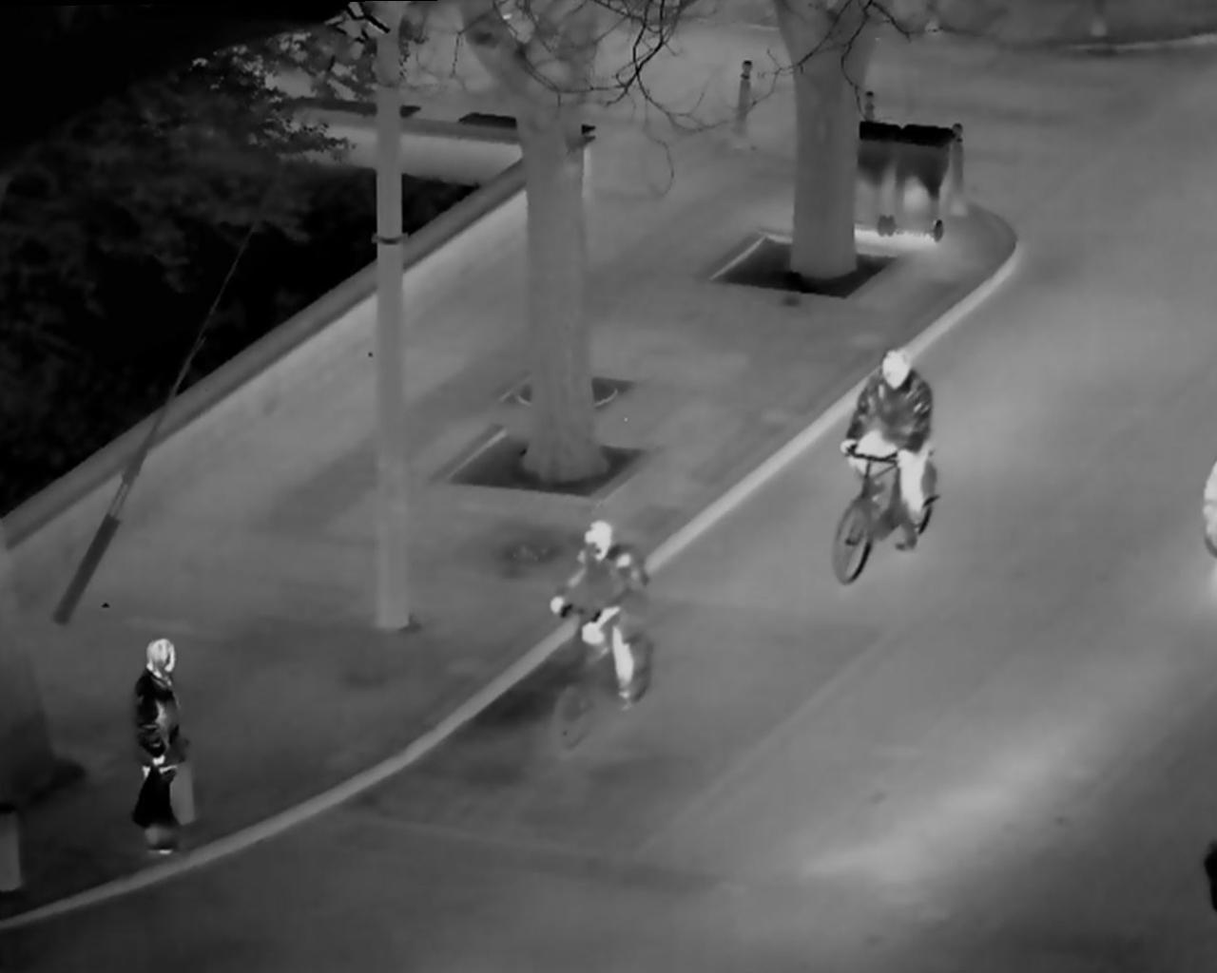person: (828, 329, 947, 594), (534, 516, 669, 739), (124, 632, 206, 857)
